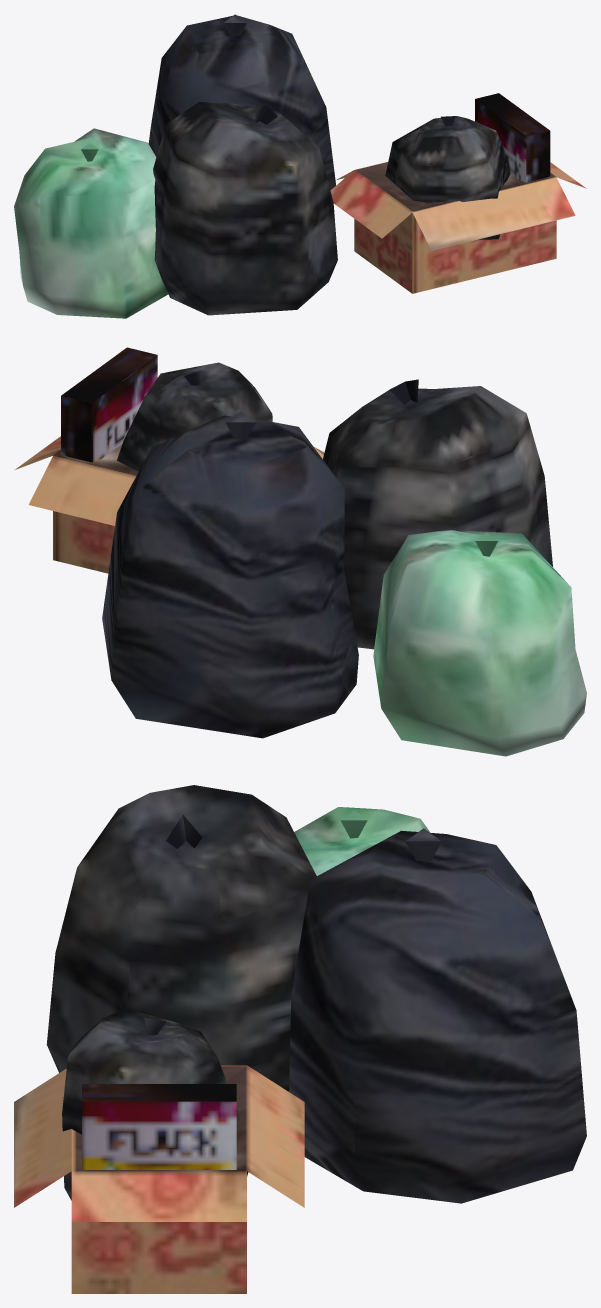
File: prop-bin.glb
The picture shows the model from 3 angles, top to bottom: view 1: azimuth 30°, elevation 25°; view 2: azimuth 150°, elevation 25°; view 3: azimuth 270°, elevation 25°; orthographic projection. The views are drawn at different scales.
Visible parts, largest first — view 1: Trash; view 2: Trash; view 3: Trash.
Part boxes in pixels (<box>): Trash: <box>14,14,586,318</box>; Trash: <box>15,347,586,756</box>; Trash: <box>14,785,586,1293</box>.
Size of the model in its own units: 2.16 by 0.929 by 1.53.
Materials: 1 (1 with a texture image).
